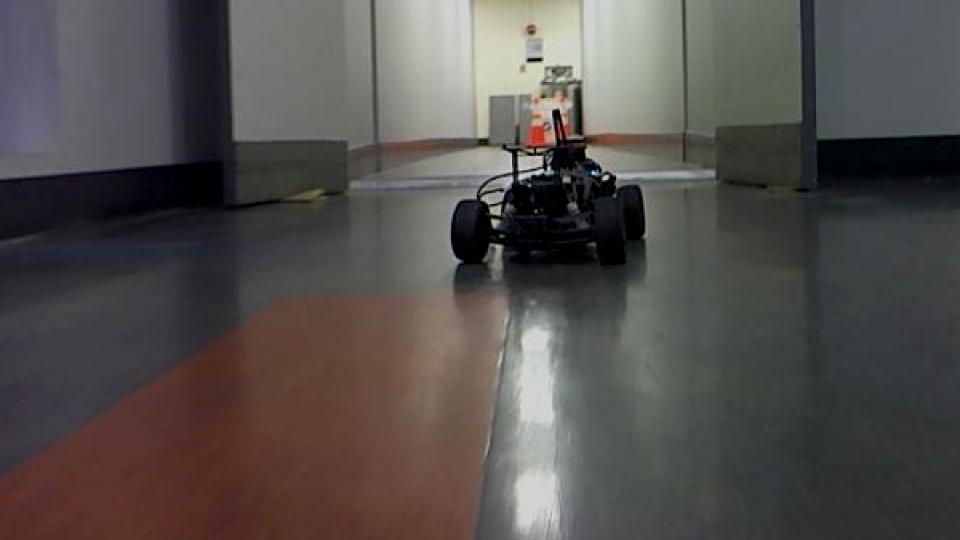car: (448, 106, 651, 270)
